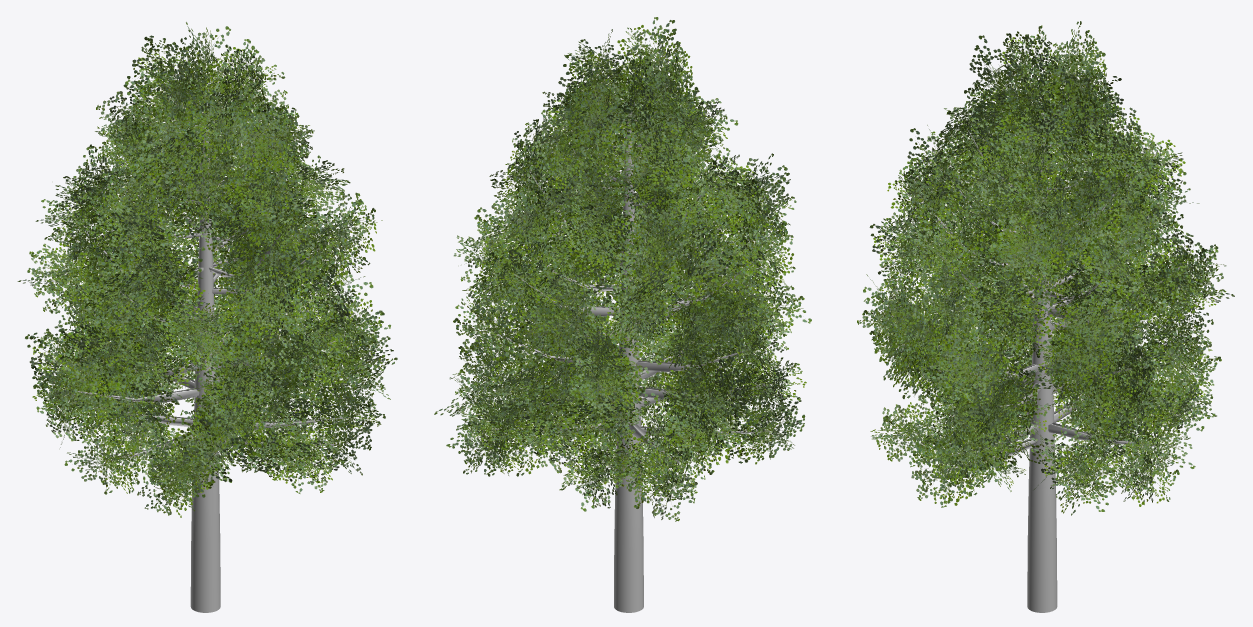
The model's file is Basswood_Model_0.obj.
The picture shows the model from 3 angles, left to right: view 1: azimuth 30°, elevation 25°; view 2: azimuth 150°, elevation 25°; view 3: azimuth 270°, elevation 25°; orthographic projection.
Visible parts, largest first — view 1: Foliage__leafcard, Bark; view 2: Foliage__leafcard, Bark; view 3: Foliage__leafcard, Bark.
Part boxes in pixels (left/top/right/bottom): Foliage__leafcard: left=17, top=22, right=397, bottom=517; Bark: left=75, top=66, right=348, bottom=612; Foliage__leafcard: left=434, top=17, right=811, bottom=521; Bark: left=491, top=70, right=769, bottom=612; Foliage__leafcard: left=857, top=21, right=1234, bottom=515; Bark: left=916, top=60, right=1184, bottom=612.
Size of the model in its own units: 18.34 by 30 by 18.66.
